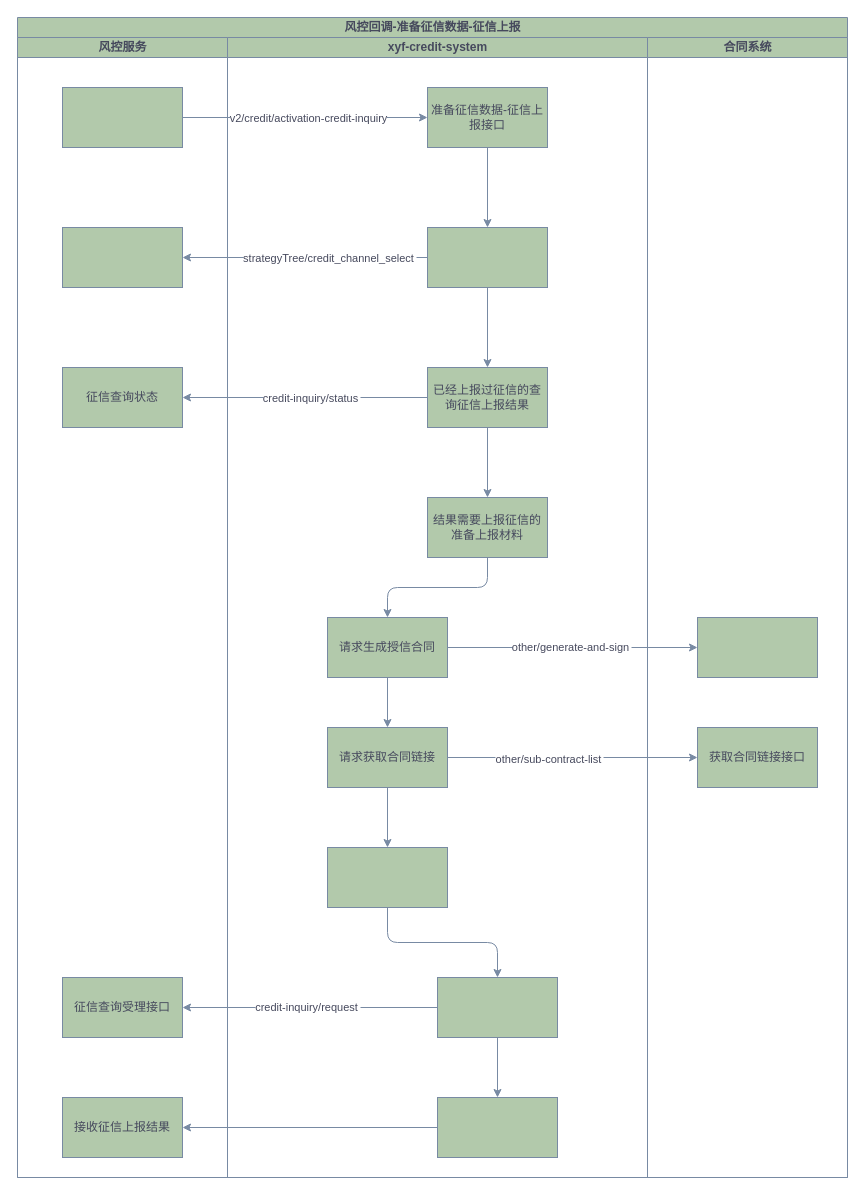
The diagram is 865 pixels wide and 1195 high, and some of its shapes have lost their labels. Each missing label, with the centre of its shape:
"回调请求接口" goes at (122,117).
"查询FaceIdCard、FaceVerify表获取ocr和face地址" goes at (387,877).
"生成授信合同接口" goes at (757,647).
"请求征信查询受理接口" goes at (497,1007).
"返回征信上报结果" goes at (497,1127).
"选择征信渠道" goes at (487,257).
"选择征信渠道接口" goes at (122,257).
